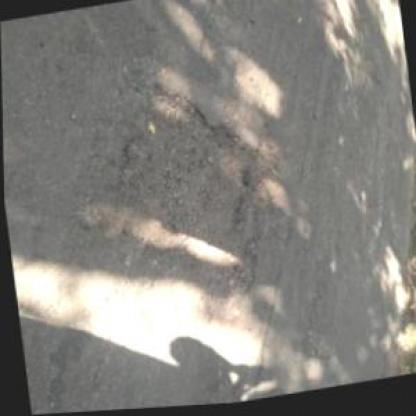pothole: (93, 65, 274, 319)
